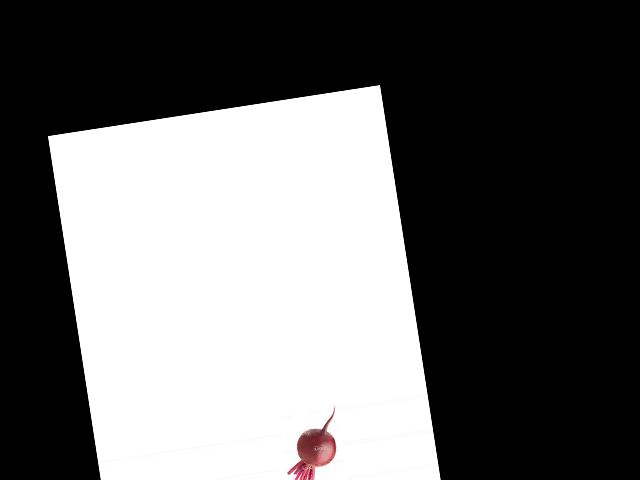beet: (278, 406, 346, 480)
